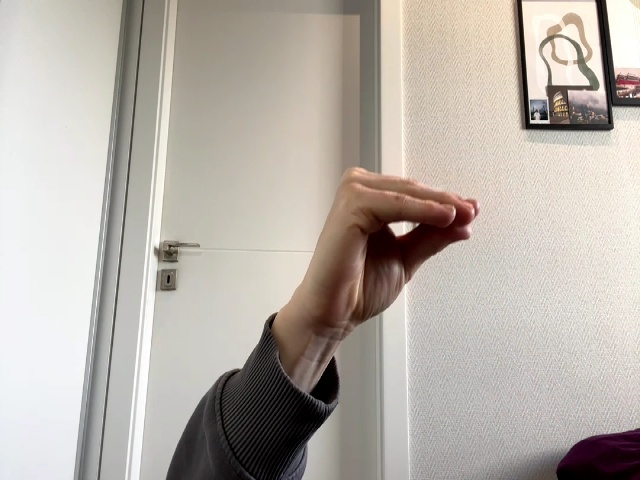E: (301, 167, 479, 317)
